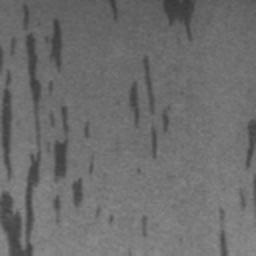Red iron sheet: (0, 0, 96, 256), (128, 54, 174, 157), (161, 0, 198, 42), (219, 207, 232, 256), (244, 118, 256, 169), (104, 0, 119, 22), (140, 215, 148, 238), (82, 120, 92, 138), (106, 212, 116, 225)
